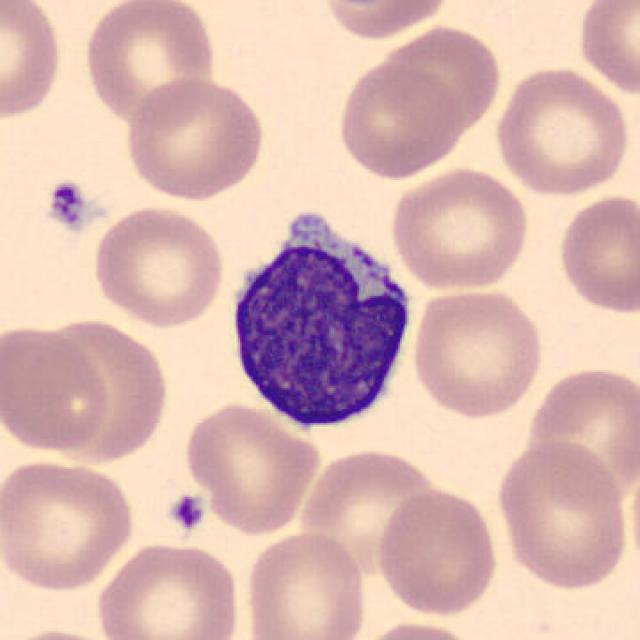Lymphocyte: (215, 197, 421, 439)
Platelets: (42, 176, 90, 233), (165, 490, 208, 533)
RBC: (27, 314, 176, 467), (492, 438, 633, 592), (297, 444, 450, 580), (0, 455, 139, 594), (180, 400, 322, 536), (407, 284, 548, 419), (121, 74, 268, 203), (491, 64, 631, 198), (386, 164, 532, 291), (89, 202, 227, 330), (80, 0, 220, 125), (372, 486, 502, 618), (521, 362, 638, 502), (334, 60, 466, 180), (90, 537, 243, 640), (0, 322, 112, 458), (380, 21, 505, 138), (242, 527, 370, 640), (555, 190, 638, 318), (0, 0, 66, 123), (572, 0, 638, 99), (320, 0, 455, 41), (354, 617, 484, 640)
